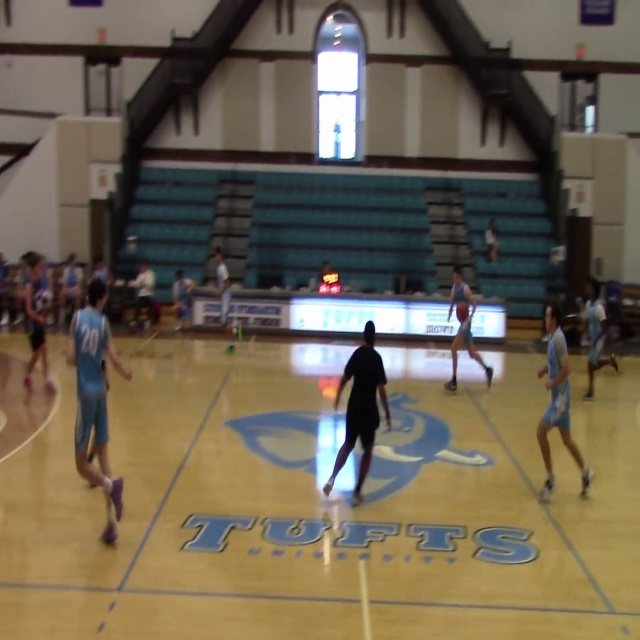Basketball: (456, 301, 469, 322), (45, 380, 56, 394), (225, 344, 235, 354)
